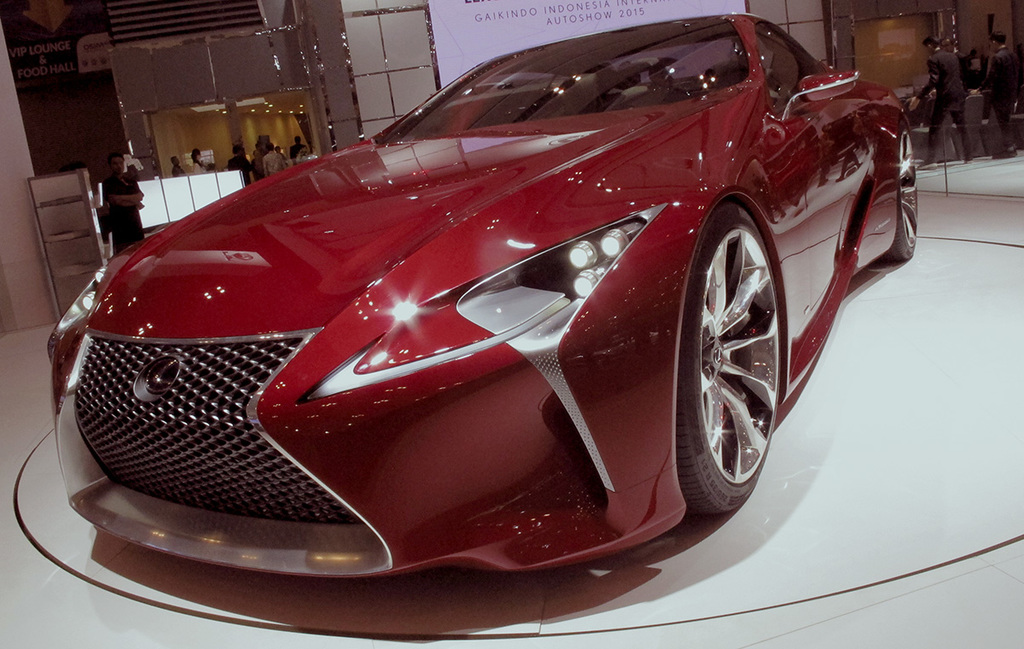Person: (102, 130, 309, 255), (905, 33, 965, 169), (976, 32, 1015, 157), (942, 36, 972, 85)
